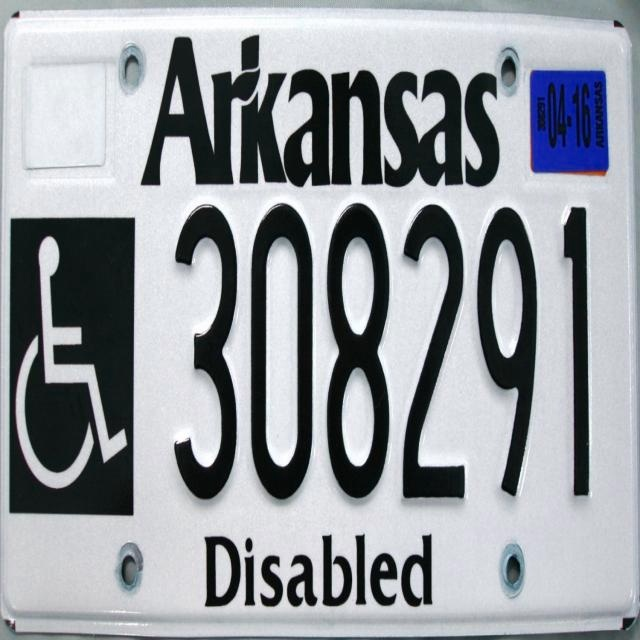ISA: (17, 237, 128, 492)
